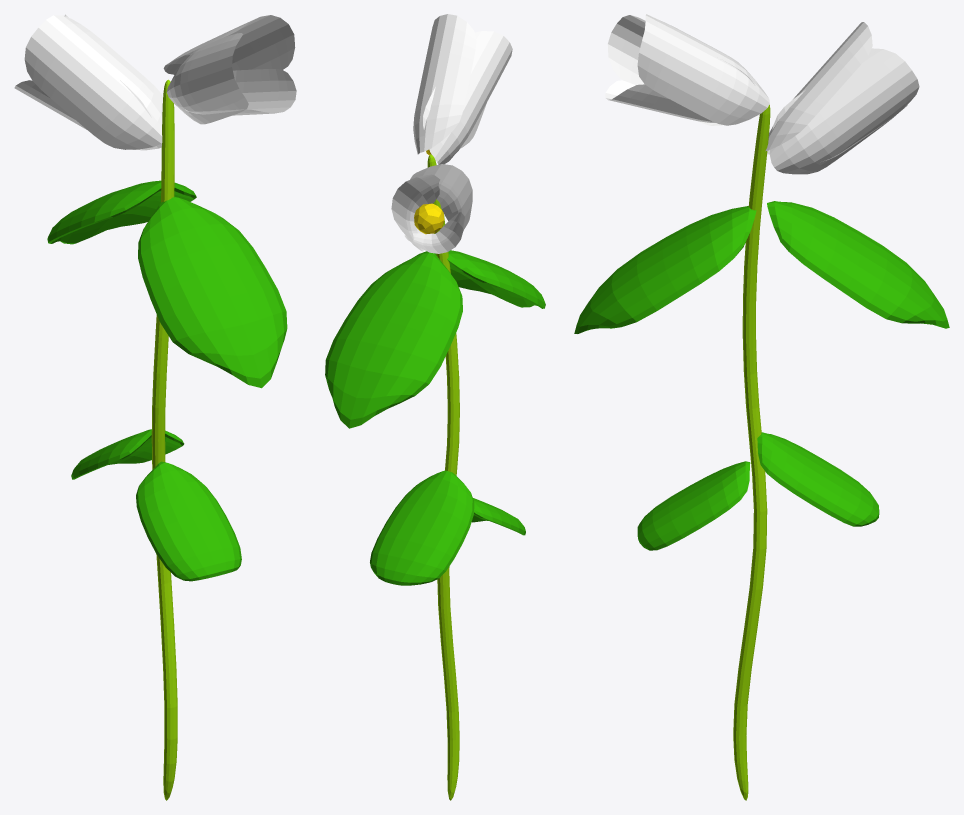
File: Lima Bean Germination GrowthFlowering2.fbx
3 renders of one model, left to right at view 1: azimuth 30°, elevation 25°; view 2: azimuth 150°, elevation 25°; view 3: azimuth 270°, elevation 25°, orthographic. The views are drawn at different scales.
Visible parts, largest first — view 1: Plane.008, Icosphere.002, Icosphere.001, Plane.007, Cylinder.001, Plane.009, Plane.006; view 2: Plane.009, Icosphere.001, Plane.006, Icosphere.002, Cylinder.001, Plane.008, Plane.007; view 3: Icosphere.002, Icosphere.001, Plane.009, Plane.008, Cylinder.001, Plane.006, Plane.007.
Boxes of the visible parts, x1=… form: Plane.008: x1=138, y1=196, x2=287, y2=388; Icosphere.002: x1=14, y1=14, x2=162, y2=150; Icosphere.001: x1=163, y1=15, x2=296, y2=124; Plane.007: x1=136, y1=461, x2=241, y2=581; Cylinder.001: x1=151, y1=79, x2=177, y2=800; Plane.009: x1=47, y1=180, x2=196, y2=244; Plane.006: x1=71, y1=429, x2=184, y2=479; Plane.009: x1=325, y1=252, x2=462, y2=428; Icosphere.001: x1=413, y1=14, x2=512, y2=164; Plane.006: x1=370, y1=470, x2=474, y2=585; Icosphere.002: x1=391, y1=164, x2=472, y2=253; Cylinder.001: x1=427, y1=154, x2=459, y2=800; Plane.008: x1=413, y1=250, x2=545, y2=308; Plane.007: x1=471, y1=498, x2=525, y2=535; Icosphere.002: x1=765, y1=22, x2=919, y2=174; Icosphere.001: x1=605, y1=14, x2=769, y2=125; Plane.009: x1=767, y1=201, x2=949, y2=328; Plane.008: x1=574, y1=206, x2=756, y2=333; Cylinder.001: x1=733, y1=104, x2=770, y2=800; Plane.006: x1=757, y1=432, x2=879, y2=526; Plane.007: x1=637, y1=461, x2=750, y2=550.
Size of the model in its own units: 236 by 1164 by 491.
